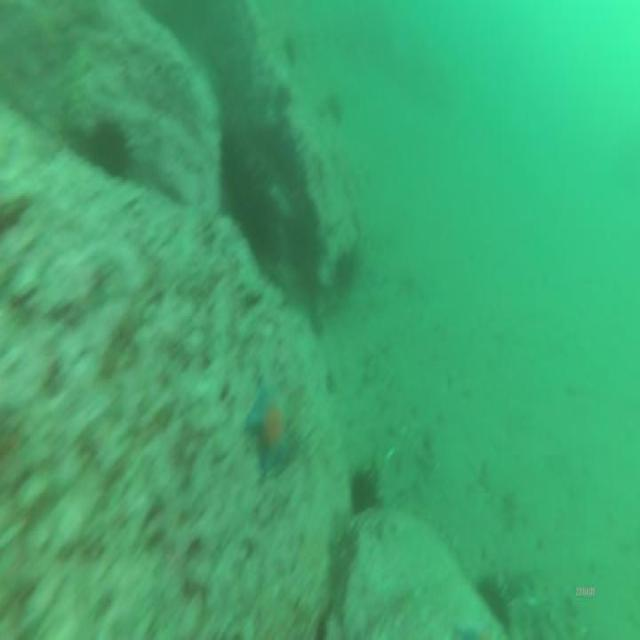echinus: (84, 106, 130, 177), (236, 186, 276, 258), (476, 569, 514, 638), (349, 463, 386, 521), (217, 133, 251, 196), (333, 245, 358, 291), (324, 84, 344, 125), (273, 79, 294, 115), (280, 32, 299, 70)
starfish: (243, 376, 297, 479)
